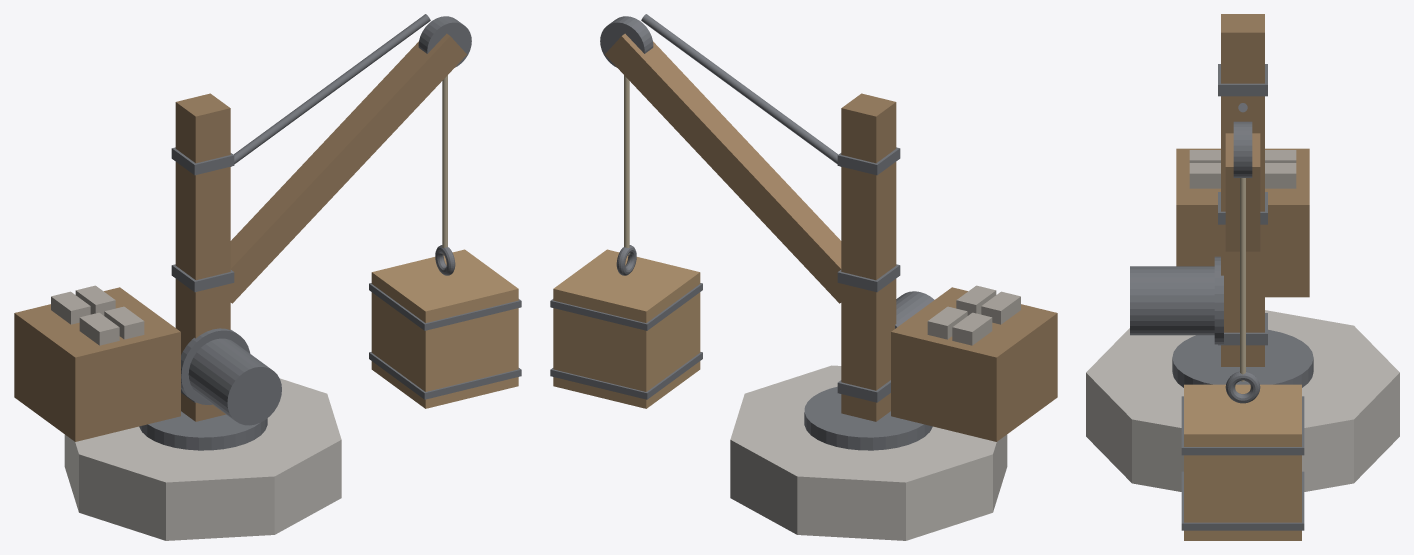
File: quayside_crane.glb
The picture shows the model from 3 angles, left to right: view 1: azimuth 30°, elevation 25°; view 2: azimuth 150°, elevation 25°; view 3: azimuth 270°, elevation 25°; orthographic projection. The views are drawn at different scales.
Visible parts, largest first — view 1: Cylinder, Cube.005, Cube.010, Cube.004, Cube, Cylinder.004, Cylinder.001, Cylinder.002, Cylinder.005, Cube.012, Cube.011, Cylinder.003 (+7 smaller); view 2: Cylinder, Cube.005, Cube.010, Cube, Cube.004, Cylinder.001, Cylinder.002, Cube.012, Cube.011, Cylinder.003, Cylinder.006, Cube.007 (+7 smaller); view 3: Cylinder, Cube.010, Cube.005, Cube, Cylinder.004, Cylinder.001, Cube.004, Cube.011, Cube.012, Cylinder.006, Cylinder.003, Cube.008 (+7 smaller).
Boxes of the visible parts, x1,y1,x2,y2 form: Cylinder: (64,378,341,540); Cube.005: (14,287,180,441); Cube.010: (371,249,518,408); Cube.004: (230,33,466,303); Cube: (175,93,230,421); Cylinder.004: (188,338,281,425); Cylinder.001: (139,411,267,450); Cylinder.002: (231,14,430,166); Cylinder.005: (181,328,250,404); Cube.012: (369,283,521,330); Cube.011: (369,352,521,399); Cylinder.003: (418,16,471,67); Cylinder: (730,365,1007,540); Cube.005: (891,287,1057,441); Cube.010: (553,249,700,408); Cube: (841,93,896,421); Cube.004: (605,33,841,303); Cylinder.001: (804,386,932,450); Cylinder.002: (641,14,840,166); Cube.012: (550,283,702,330); Cube.011: (550,352,702,399); Cylinder.003: (600,16,653,67); Cylinder.006: (624,75,629,254); Cube.007: (952,312,992,345); Cylinder: (1086,310,1399,491); Cube.010: (1184,384,1301,540); Cube.005: (1176,148,1309,297); Cube: (1221,14,1264,366); Cylinder.004: (1130,266,1214,335); Cylinder.001: (1172,329,1313,387); Cube.004: (1225,133,1260,251); Cube.011: (1181,471,1304,530); Cube.012: (1181,396,1304,455); Cylinder.006: (1240,178,1245,381); Cylinder.003: (1233,121,1252,177); Cube.008: (1189,163,1220,188).
Bounding box in the file's own units: 3.62 × 3.18 × 2.
